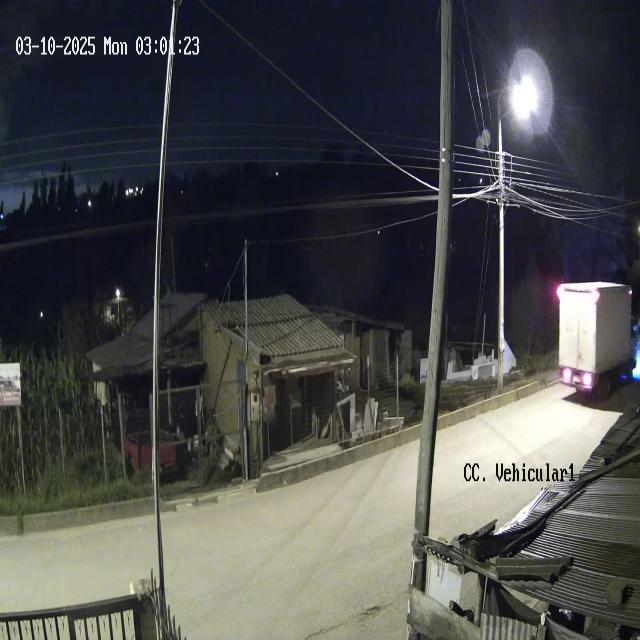TRUCK: (558, 278, 638, 407)
